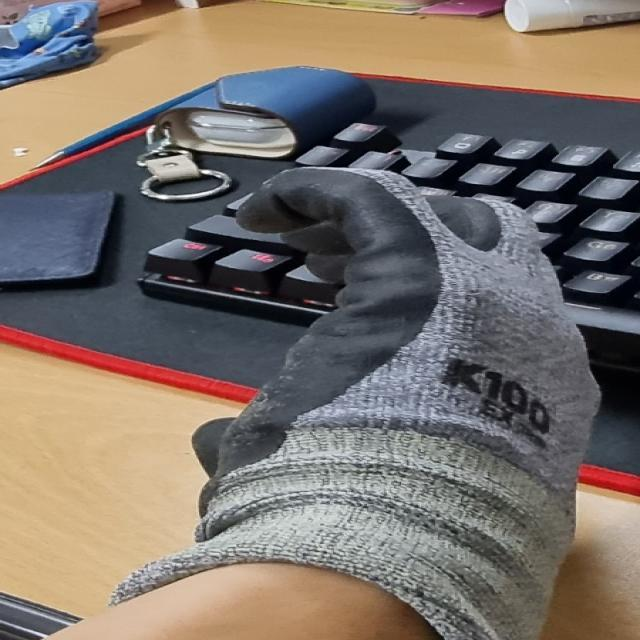Gloves: (207, 171, 596, 617)
